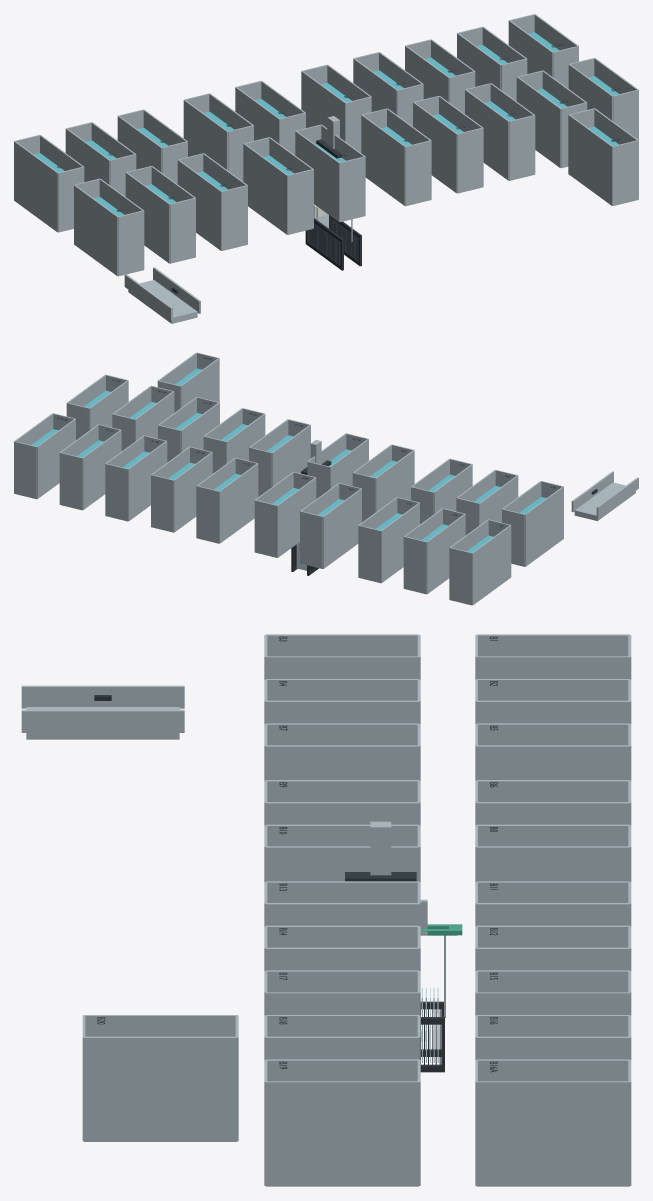
File: spectra-g2-interior.glb
3 renders of one model, top to bottom at view 1: azimuth 30°, elevation 25°; view 2: azimuth 150°, elevation 25°; view 3: azimuth 270°, elevation 25°, orthographic. The views are drawn at different scales.
Parts seen in each view (by area): view 1: g2.bath.B20.side.-0.027, g2.bath.side.-0.027, g2.bath.B3.side.-0.027, g2.bath.B13.side.-0.027, g2.bath.B9.side.-0.027, g2.bath.B17.side.-0.027, g2.bath.B14.side.-0.027, g2.bath.B4.side.-0.027, g2.bath.B10.side.-0.027, g2.bath.B18.side.-0.027, g2.bath.B7.side.-0.027, g2.bath.B6.side.-0.027 (+54 smaller); view 2: g2.bath.side.-0.027, g2.bath.B3.side.-0.027, g2.bath.B11.side.-0.027, g2.bath.B6.side.-0.027, g2.bath.B2.side.-0.027, g2.bath.B16.side.-0.027, g2.bath.B15.side.-0.027, g2.bath.B8.side.-0.027, g2.bath.B5.side.-0.027, g2.bath.B12.side.-0.027, g2.bath.B16A.side.-0.027, g2.bath.B9.side.-0.027 (+53 smaller); view 3: g2.bath.B20.side.0.027, g2.bath.B16A.side.0.027, g2.bath.B19.side.0.027, g2.bath.B8.side.0.027, g2.bath.B5.side.0.027, g2.bath.B7.side.0.027, g2.bath.B10.side.0.027, g2.counter.recess-rim.0.03, g2.bath.B16.side.0.027, g2.bath.B2.side.0.027, g2.bath.B12.side.0.027, g2.bath.B4.side.0.027 (+34 smaller).
Part boxes in pixels (bbox=[...]): g2.bath.B20.side.-0.027: bbox=[568, 114, 612, 205]; g2.bath.side.-0.027: bbox=[14, 141, 58, 232]; g2.bath.B3.side.-0.027: bbox=[74, 185, 117, 275]; g2.bath.B13.side.-0.027: bbox=[361, 115, 405, 205]; g2.bath.B9.side.-0.027: bbox=[243, 144, 287, 234]; g2.bath.B17.side.-0.027: bbox=[465, 89, 509, 180]; g2.bath.B14.side.-0.027: bbox=[413, 102, 457, 193]; g2.bath.B4.side.-0.027: bbox=[125, 172, 169, 263]; g2.bath.B10.side.-0.027: bbox=[295, 131, 339, 221]; g2.bath.B18.side.-0.027: bbox=[516, 77, 560, 167]; g2.bath.B7.side.-0.027: bbox=[177, 160, 221, 250]; g2.bath.B6.side.-0.027: bbox=[183, 99, 227, 170]; g2.bath.side.-0.027: bbox=[472, 525, 511, 605]; g2.bath.B3.side.-0.027: bbox=[525, 486, 563, 566]; g2.bath.B11.side.-0.027: bbox=[219, 463, 258, 543]; g2.bath.B6.side.-0.027: bbox=[323, 488, 361, 568]; g2.bath.B2.side.-0.027: bbox=[426, 514, 465, 594]; g2.bath.B16.side.-0.027: bbox=[82, 430, 121, 509]; g2.bath.B15.side.-0.027: bbox=[128, 441, 167, 521]; g2.bath.B8.side.-0.027: bbox=[277, 477, 316, 557]; g2.bath.B5.side.-0.027: bbox=[381, 503, 419, 582]; g2.bath.B12.side.-0.027: bbox=[174, 452, 212, 532]; g2.bath.B16A.side.-0.027: bbox=[37, 419, 75, 498]; g2.bath.B9.side.-0.027: bbox=[375, 450, 414, 511]; g2.bath.B20.side.0.027: bbox=[84, 1036, 237, 1141]; g2.bath.B16A.side.0.027: bbox=[476, 1081, 629, 1186]; g2.bath.B19.side.0.027: bbox=[266, 1081, 418, 1186]; g2.bath.B8.side.0.027: bbox=[476, 846, 629, 881]; g2.bath.B5.side.0.027: bbox=[476, 745, 629, 779]; g2.bath.B7.side.0.027: bbox=[266, 745, 418, 779]; g2.bath.B10.side.0.027: bbox=[266, 846, 418, 881]; g2.counter.recess-rim.0.03: bbox=[21, 709, 184, 732]; g2.bath.B16.side.0.027: bbox=[476, 1036, 629, 1059]; g2.bath.B2.side.0.027: bbox=[476, 700, 629, 723]; g2.bath.B12.side.0.027: bbox=[476, 947, 629, 970]; g2.bath.B4.side.0.027: bbox=[266, 700, 418, 723].
Bounding box in the file's own units: 1.14 × 0.276 × 0.6365.
